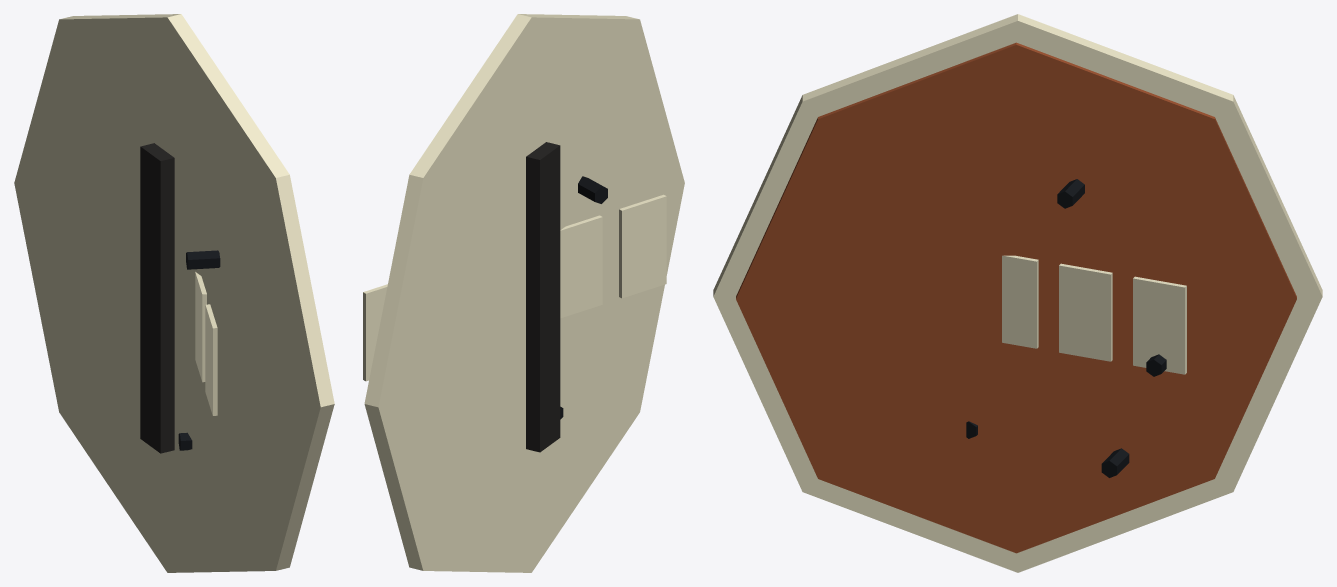
The model's file is held_sign.glb.
The picture shows the model from 3 angles, left to right: view 1: azimuth 30°, elevation 25°; view 2: azimuth 150°, elevation 25°; view 3: azimuth 270°, elevation 25°; orthographic projection.
Parts seen in each view (by area): view 1: octagon_border, strap, letter_0, letter_1, shot_0; view 2: octagon_border, strap, letter_0, letter_1, letter_4, shot_0; view 3: octagon, octagon_border, letter_3, letter_4, letter_2.
Boxes of the visible parts, x1=… form: octagon_border: x1=14, y1=14, x2=334, y2=572; strap: x1=140, y1=143, x2=174, y2=453; letter_0: x1=205, y1=304, x2=217, y2=415; letter_1: x1=195, y1=272, x2=206, y2=382; shot_0: x1=186, y1=250, x2=220, y2=269; octagon_border: x1=364, y1=14, x2=684, y2=572; strap: x1=526, y1=142, x2=560, y2=452; letter_0: x1=619, y1=194, x2=666, y2=298; letter_1: x1=560, y1=215, x2=602, y2=318; letter_4: x1=363, y1=284, x2=387, y2=381; shot_0: x1=578, y1=176, x2=607, y2=203; octagon: x1=736, y1=42, x2=1296, y2=553; octagon_border: x1=713, y1=14, x2=1322, y2=572; letter_3: x1=1059, y1=263, x2=1112, y2=361; letter_4: x1=1133, y1=276, x2=1186, y2=374; letter_2: x1=1002, y1=255, x2=1038, y2=348.
Bounding box in the file's own units: 0.1917 × 0.76 × 0.76.
